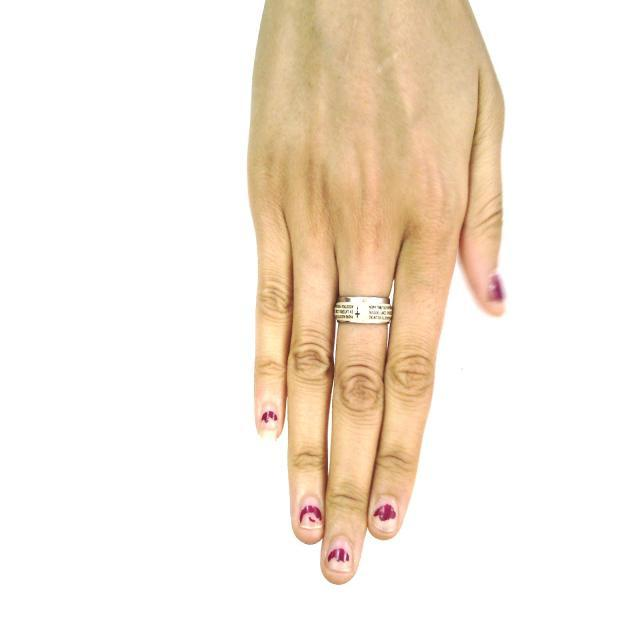Fingernail: (326, 538, 352, 573), (372, 498, 397, 532), (299, 498, 322, 529), (260, 407, 279, 441), (489, 274, 505, 303)
